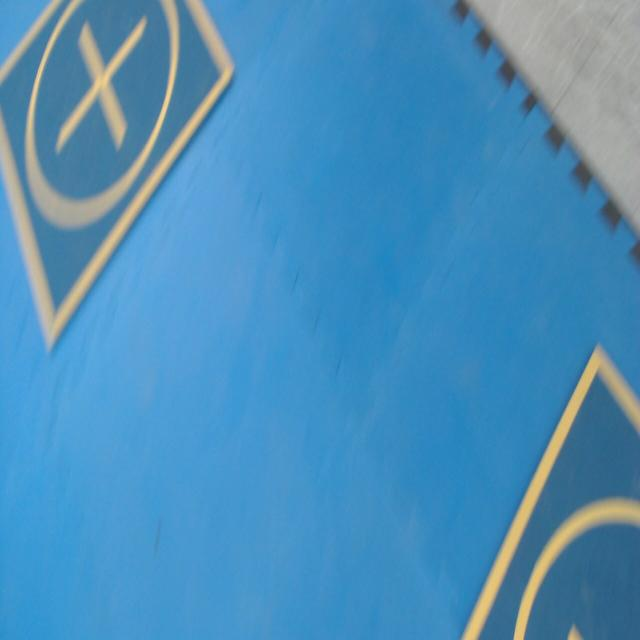base_pouso: (1, 0, 238, 351), (461, 343, 640, 639)
